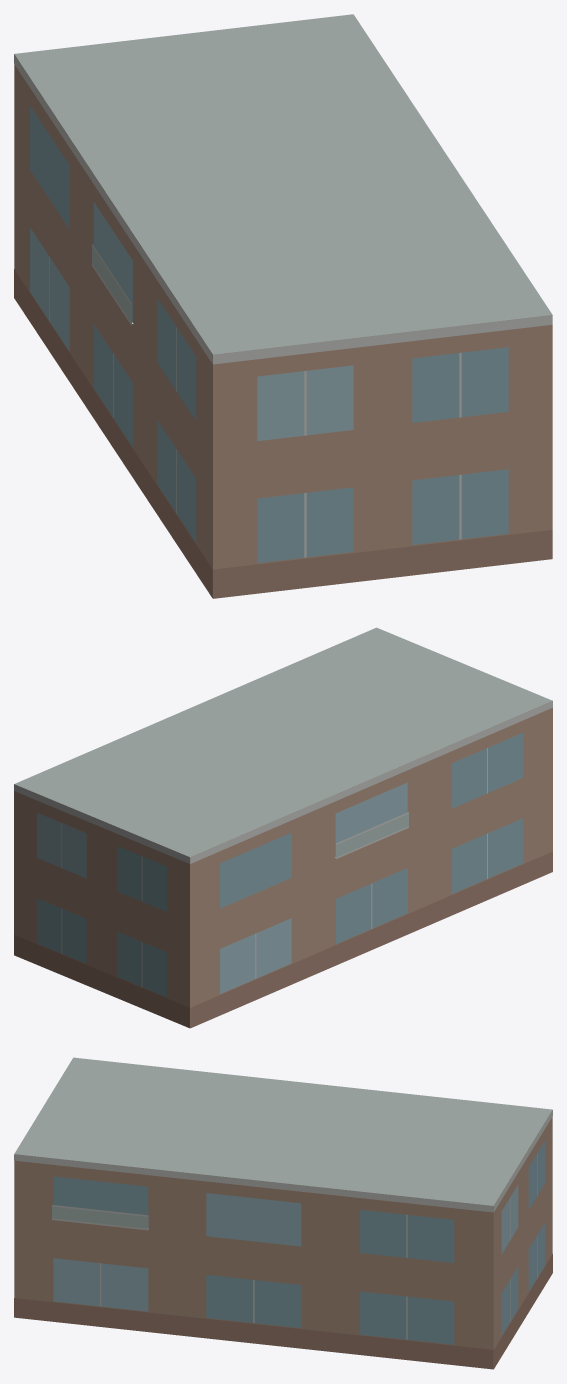
Rendered from survey-upis-32831627.glb.
3 views of the same model, one above another, from view 1: azimuth 30°, elevation 25°; view 2: azimuth 150°, elevation 25°; view 3: azimuth 270°, elevation 25° (orthographic). The views are drawn at different scales.
Visible parts, largest first — view 1: survey-upis-32831627.tmp; view 2: survey-upis-32831627.tmp; view 3: survey-upis-32831627.tmp.
Part boxes in pixels (x1,y1,x2,y2): survey-upis-32831627.tmp: (14,14,552,598); survey-upis-32831627.tmp: (14,627,552,1028); survey-upis-32831627.tmp: (14,1057,552,1369).
Bounding box in the file's own units: 11.9 × 6.1 × 18.23.
